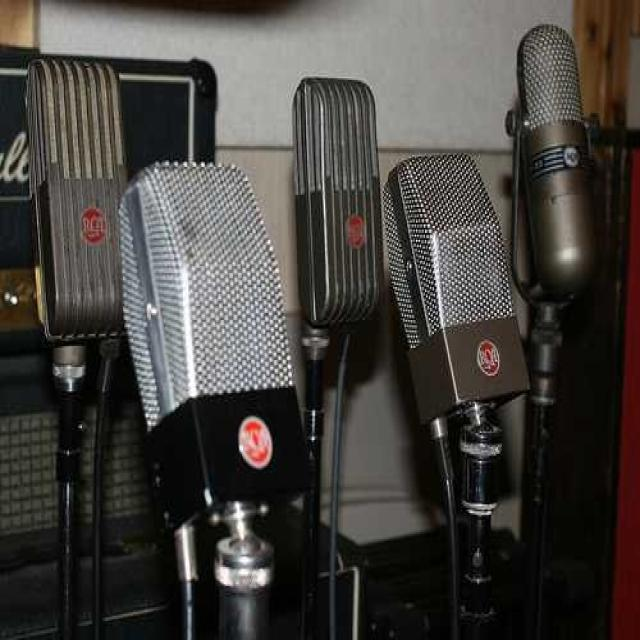microphone: (121, 164, 307, 522), (24, 65, 125, 635), (384, 156, 525, 428), (513, 23, 601, 304), (293, 78, 384, 334)
